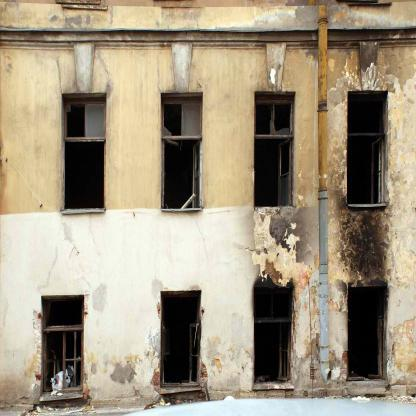Building Outline: (0, 0, 416, 7)
Dont: (122, 396, 416, 415)
Facade: (1, 1, 416, 409)
Floor: (1, 41, 416, 245)
Floor Slab: (1, 244, 416, 253), (1, 33, 416, 41)
Ground Floor: (1, 253, 416, 409)
Window: (61, 93, 107, 212), (254, 92, 296, 209), (161, 92, 202, 210), (347, 90, 388, 205), (41, 295, 84, 394), (160, 290, 202, 387), (254, 286, 293, 384), (347, 286, 387, 381)
